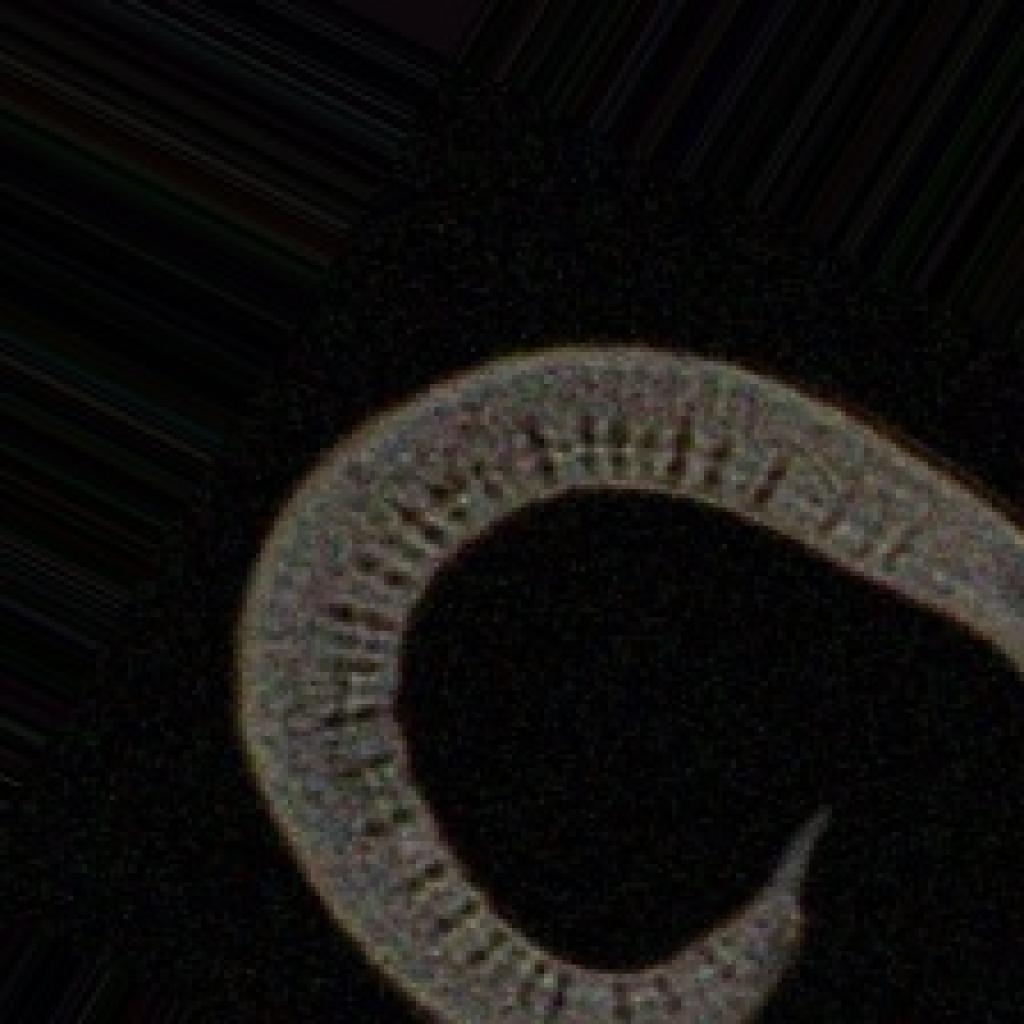Nematode: (224, 334, 1019, 1019)
